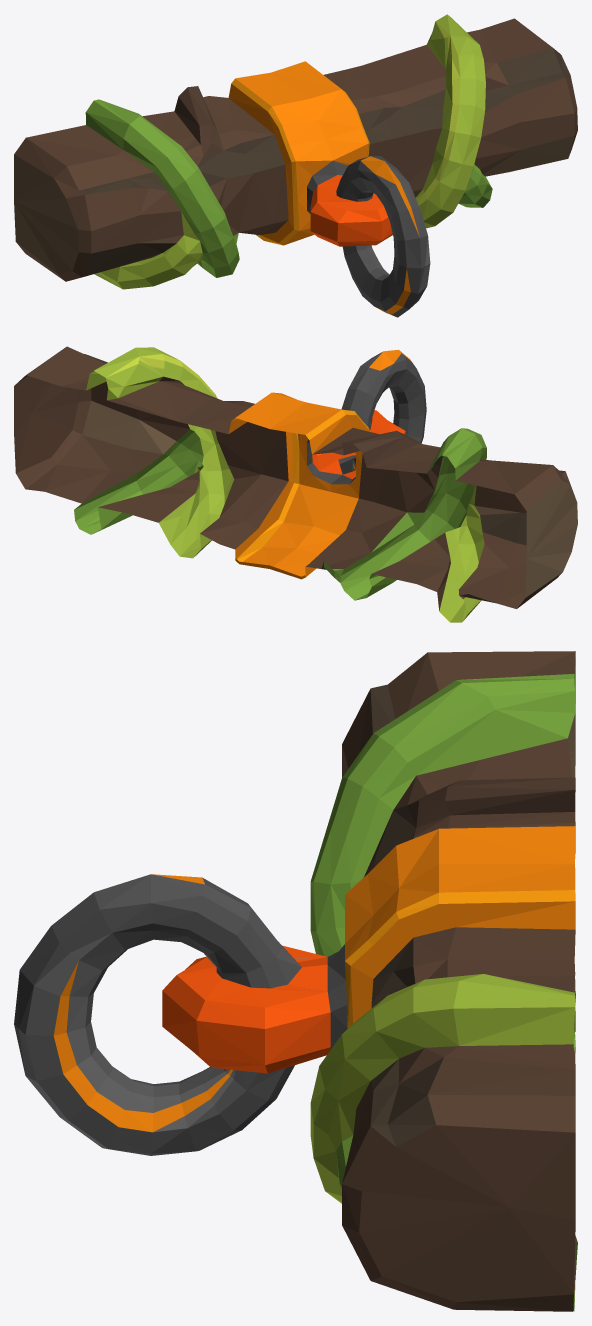
The model's file is VR_GrabHandle_01b.glb.
3 views of the same model, one above another, from view 1: azimuth 30°, elevation 25°; view 2: azimuth 150°, elevation 25°; view 3: azimuth 270°, elevation 25° (orthographic). The views are drawn at different scales.
Parts seen in each view (by area): view 1: VR_GrabHandle_01b; view 2: VR_GrabHandle_01b; view 3: VR_GrabHandle_01b.
Boxes of the visible parts, x1,y1,x2,y2 form: VR_GrabHandle_01b: [14, 14, 577, 317]; VR_GrabHandle_01b: [14, 346, 577, 622]; VR_GrabHandle_01b: [14, 651, 577, 1311].
Size of the model in its own units: 1.63 by 0.5316 by 0.8341.
1 material, 1 textured.
